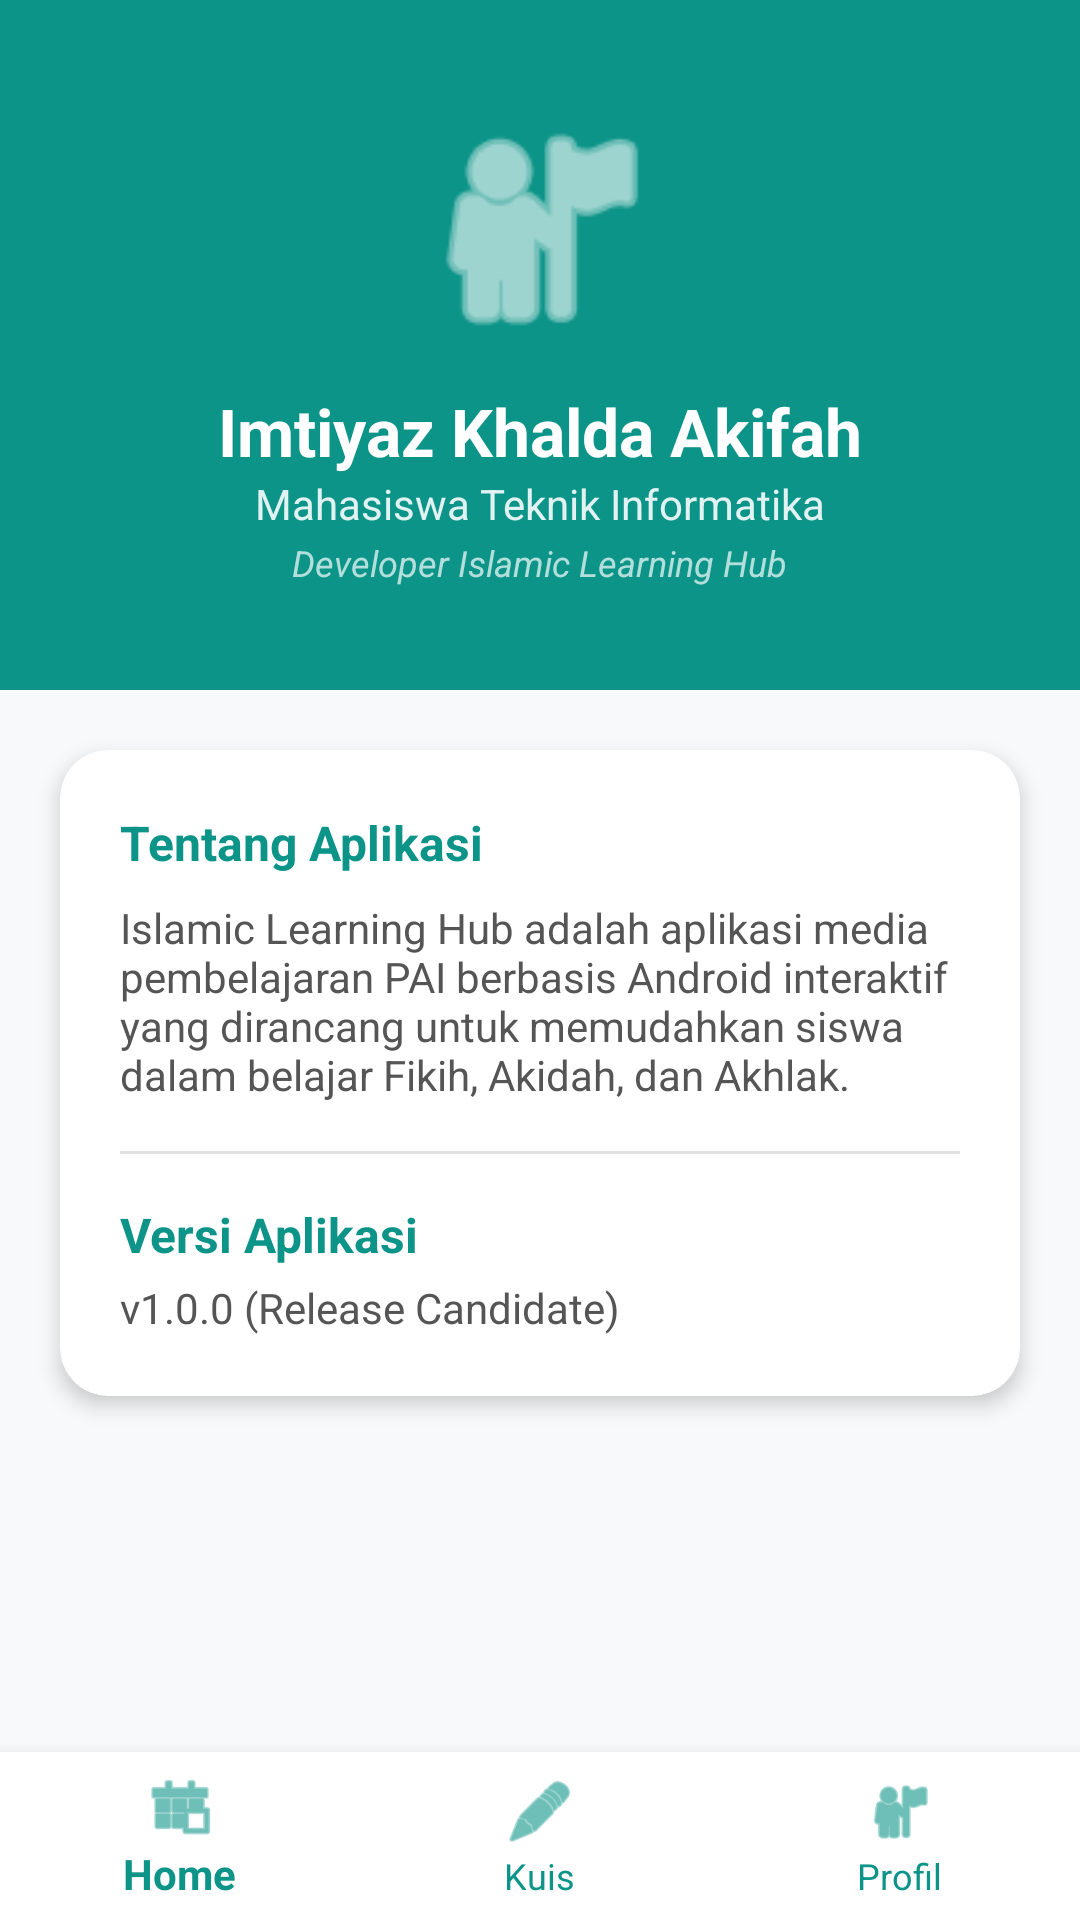

Locate icon controls on the screen. Image size 1080*1920, boxes as (x1, y1, x2, y2).
myplaces: (446, 134, 638, 325)
